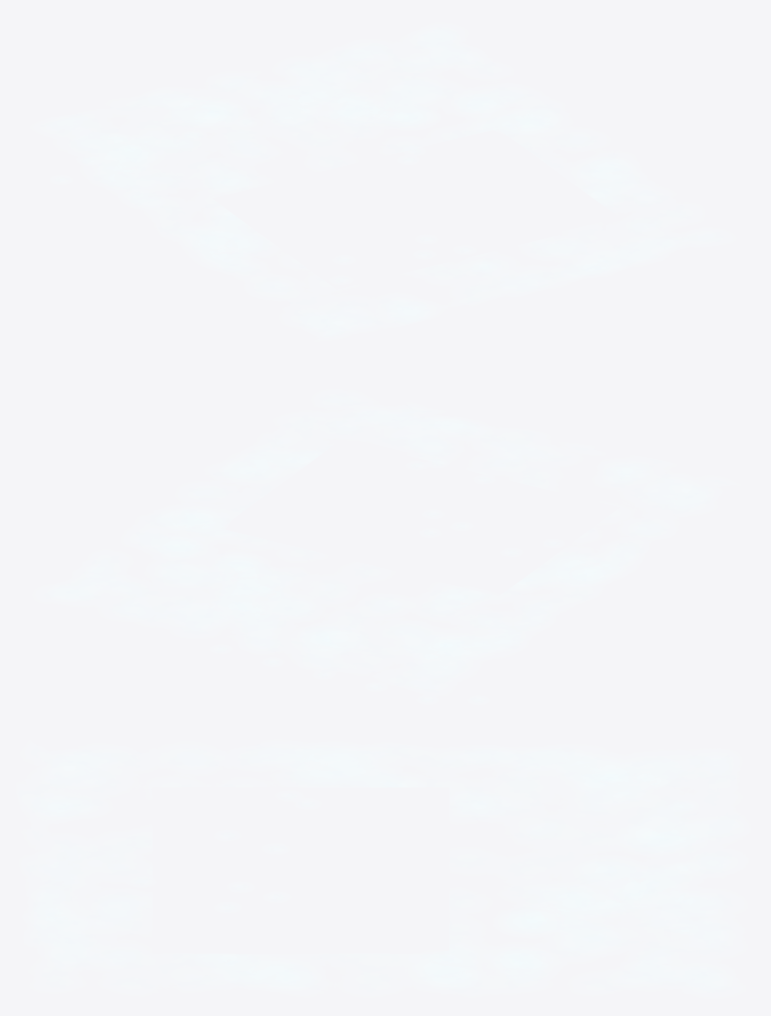
The model's file is fog_ground_v11.glb.
3 renders of one model, top to bottom at view 1: azimuth 30°, elevation 25°; view 2: azimuth 150°, elevation 25°; view 3: azimuth 270°, elevation 25°, orthographic. The views are drawn at different scales.
Parts seen in each view (by area): view 1: fog_ground; view 2: fog_ground; view 3: fog_ground.
Part boxes in pixels (box(x1,y1,x2,y2)): fog_ground: box(40, 26, 723, 337); fog_ground: box(47, 394, 717, 702); fog_ground: box(22, 744, 743, 992).
Bounding box in the file's own units: 102 × 18.2 × 122.
Materials: 4 (4 with a texture image).
